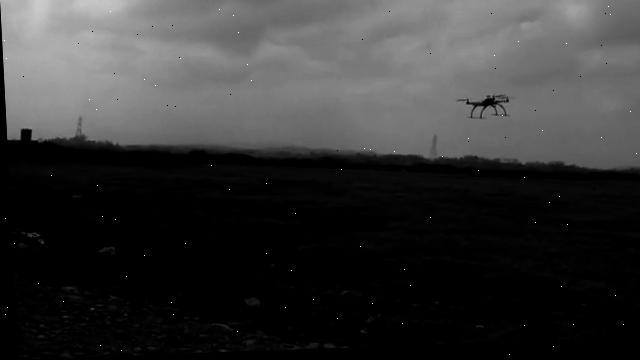drone: (453, 94, 513, 126)
